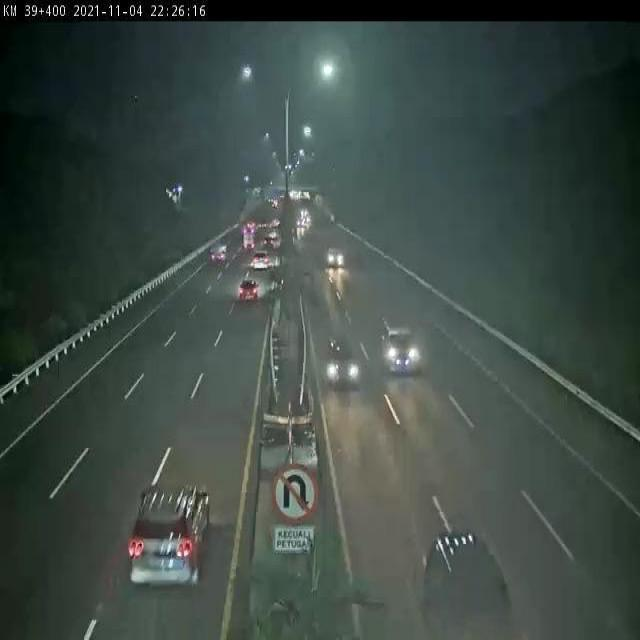car: (428, 516, 517, 632), (132, 468, 210, 591), (379, 323, 438, 383), (326, 334, 360, 398), (228, 272, 264, 312), (325, 240, 344, 279)
